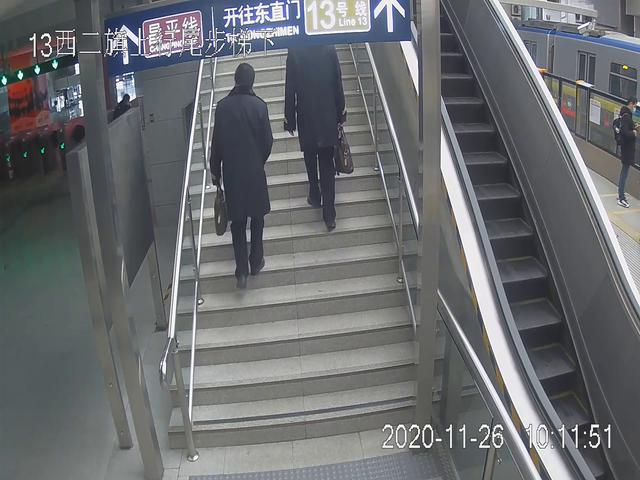person: (206, 60, 279, 288), (277, 38, 358, 232)
